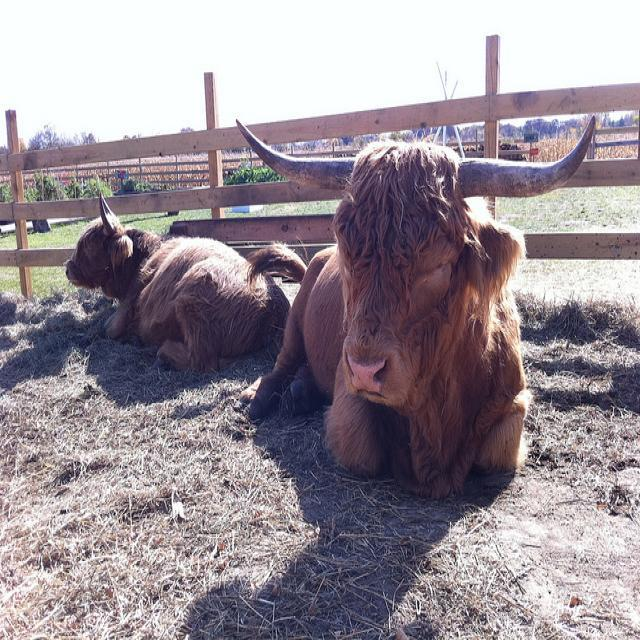cow: (231, 114, 594, 491), (65, 188, 286, 373)
